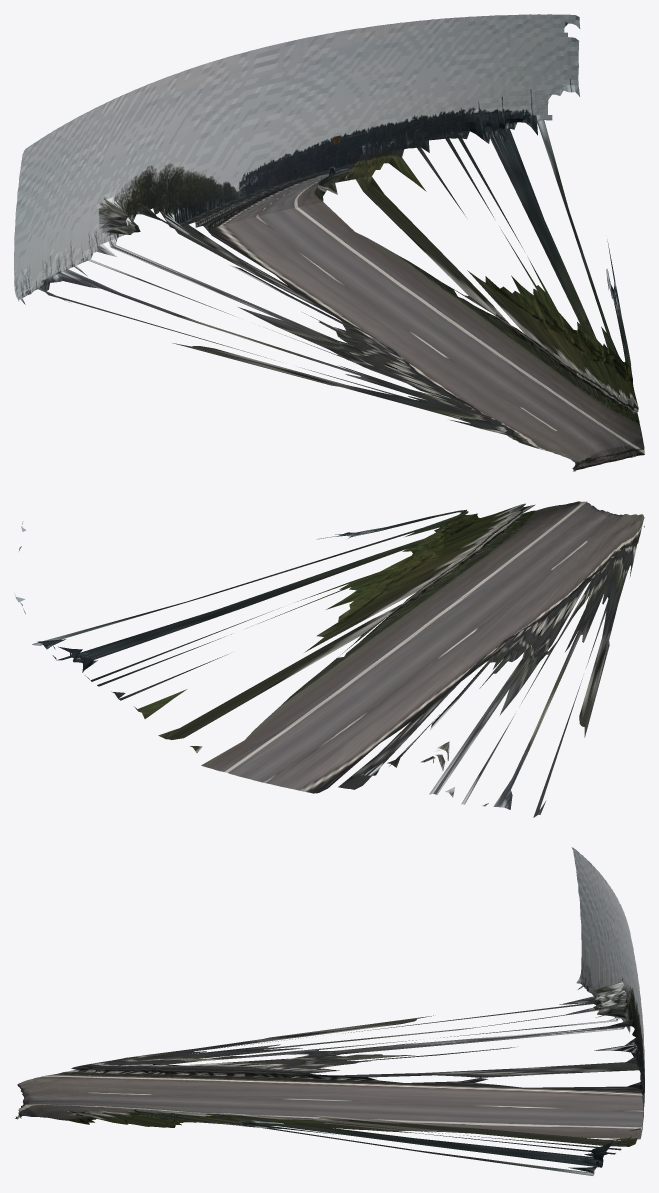
3 views of the same model, one above another, from view 1: azimuth 30°, elevation 25°; view 2: azimuth 150°, elevation 25°; view 3: azimuth 270°, elevation 25° (orthographic). The views are drawn at different scales.
Visible parts, largest first — view 1: defaultobject; view 2: defaultobject; view 3: defaultobject.
Boxes of the visible parts, left/top/right/bottom form: defaultobject: left=14, top=14, right=644, bottom=471; defaultobject: left=15, top=501, right=644, bottom=817; defaultobject: left=15, top=847, right=644, bottom=1175.
Size of the model in its own units: 41.05 by 12.18 by 44.56.
Materials: 1 (1 with a texture image).
